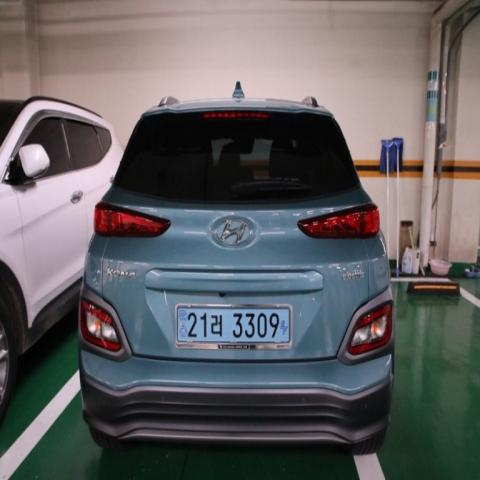LP: (172, 297, 297, 355)
